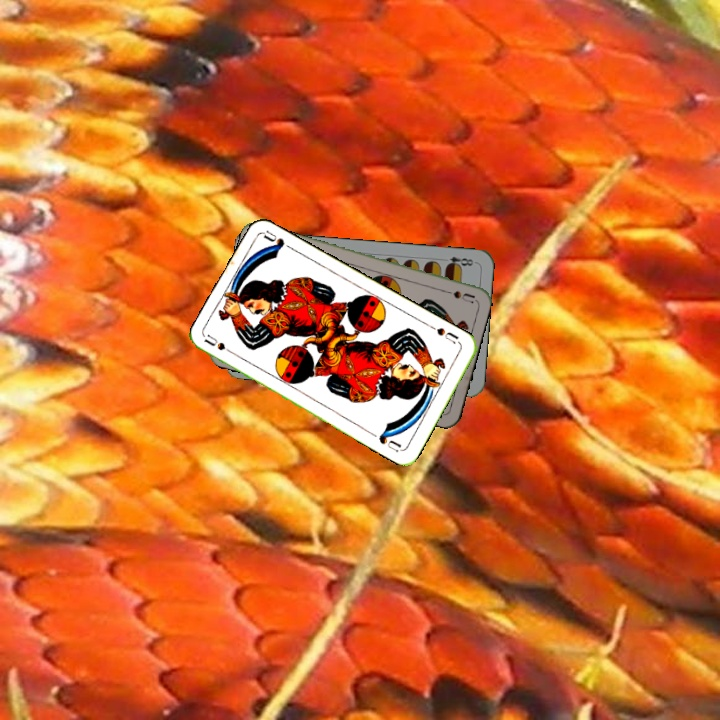E8: (438, 252, 478, 270)
SU: (201, 331, 240, 359), (426, 321, 461, 346), (436, 285, 477, 305)
